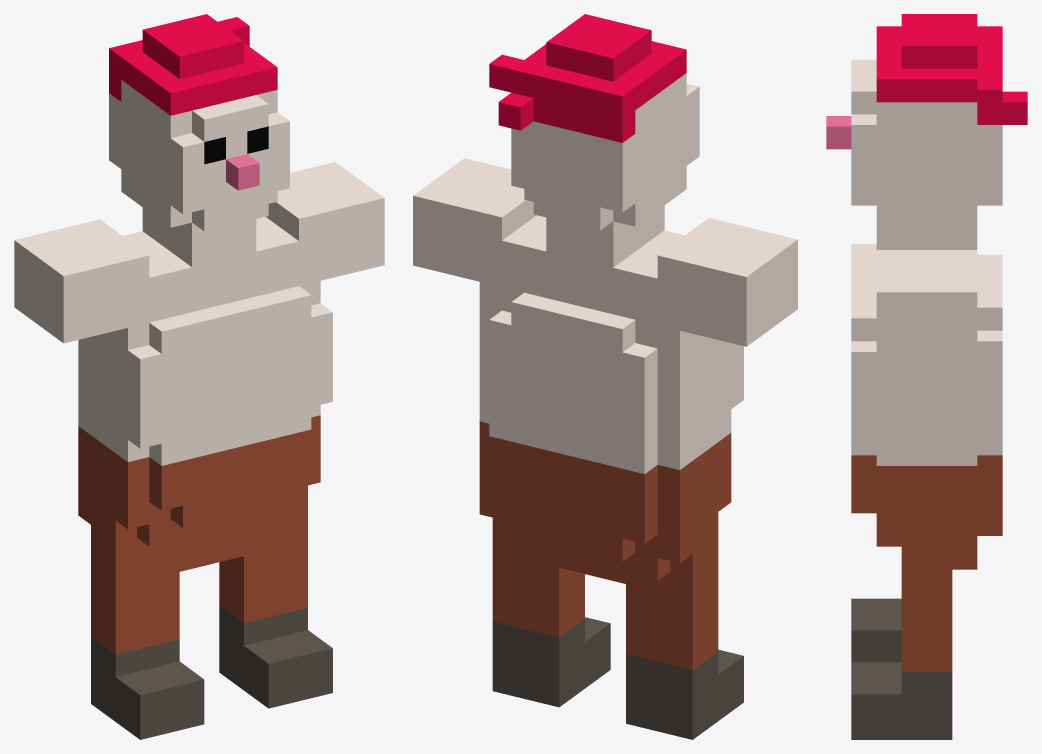
File: pirate.gltf
The picture shows the model from 3 angles, left to right: view 1: azimuth 30°, elevation 25°; view 2: azimuth 150°, elevation 25°; view 3: azimuth 270°, elevation 25°; orthographic projection. The views are drawn at different scales.
Visible parts, largest first — view 1: Layer.1; view 2: Layer.1; view 3: Layer.1.
Part boxes in pixels (x1,y1,x2,y2): Layer.1: (14, 14, 384, 739); Layer.1: (413, 14, 797, 739); Layer.1: (826, 14, 1027, 739).
Bounding box in the file's own units: 15 × 29 × 8.
Materials: 1 (1 with a texture image).
